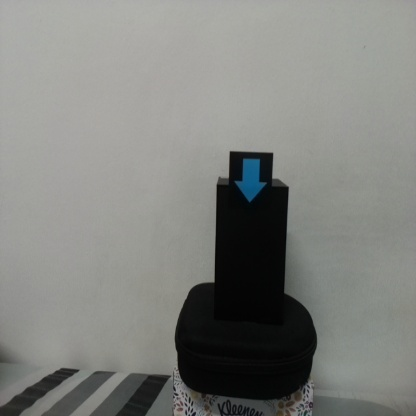id_2: (230, 153, 272, 209)
